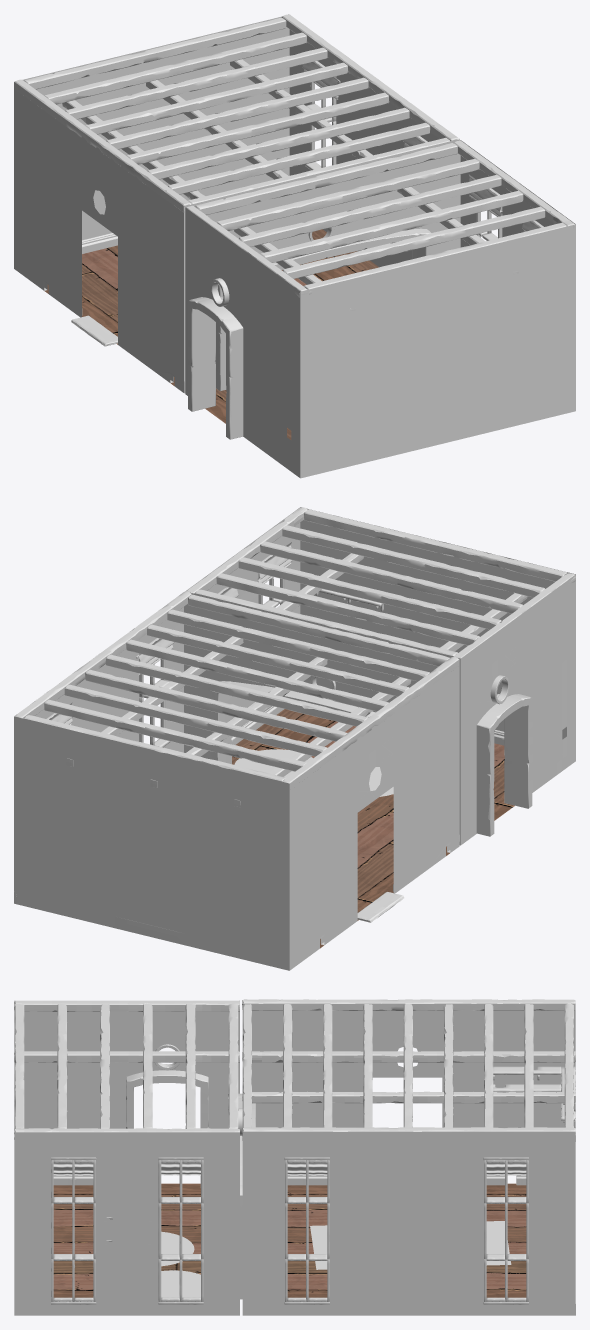
Rendered from LivingRoomTest.fbx.
3 views of the same model, one above another, from view 1: azimuth 30°, elevation 25°; view 2: azimuth 150°, elevation 25°; view 3: azimuth 270°, elevation 25° (orthographic). The views are drawn at different scales.
Parts seen in each view (by area): view 1: floor.001, CeilingWood.007, CeilingWood.012, Cube.395, CeilingWood.001, Cube.325, CeilingWood.015, CeilingWood.008, CeilingWood.010, CeilingWood.013, CeilingWood.009, Cube.078 (+3 smaller); view 2: floor.001, CeilingWood.007, CeilingWood.012, Cube.395, CeilingWood.001, Cube.325, CeilingWood.015, CeilingWood.013, CeilingWood.010, CeilingWood.009, CeilingWood.008, WallEdge.013 (+5 smaller); view 3: floor.001, CeilingWood.007, CeilingWood.012, CeilingWood.001, CeilingWood.009, CeilingWood.013, Shelf.002, Shelf.003, Shelf.013, Shelf.023, CeilingWood.008, CeilingWood.011 (+14 smaller).
Part boxes in pixels (left/top/right/bottom): floor.001: left=14, top=16, right=575, bottom=478; CeilingWood.007: left=24, top=17, right=450, bottom=204; CeilingWood.012: left=194, top=143, right=566, bottom=294; Cube.395: left=188, top=297, right=243, bottom=439; CeilingWood.001: left=14, top=14, right=458, bottom=212; Cube.325: left=215, top=228, right=432, bottom=391; CeilingWood.015: left=453, top=140, right=574, bottom=232; CeilingWood.008: left=186, top=205, right=307, bottom=297; CeilingWood.010: left=230, top=59, right=372, bottom=158; CeilingWood.013: left=146, top=80, right=287, bottom=179; CeilingWood.009: left=62, top=100, right=205, bottom=199; Cube.078: left=71, top=315, right=117, bottom=346; floor.001: left=14, top=507, right=575, bottom=970; CeilingWood.007: left=23, top=594, right=449, bottom=781; CeilingWood.012: left=195, top=509, right=567, bottom=656; Cube.395: left=476, top=693, right=532, bottom=836; CeilingWood.001: left=14, top=591, right=459, bottom=789; Cube.325: left=211, top=681, right=375, bottom=764; CeilingWood.015: left=186, top=507, right=307, bottom=593; CeilingWood.013: left=150, top=657, right=327, bottom=787; CeilingWood.010: left=66, top=636, right=243, bottom=766; CeilingWood.009: left=234, top=677, right=411, bottom=807; CeilingWood.008: left=453, top=573, right=575, bottom=658; WallEdge.013: left=114, top=916, right=184, bottom=943; floor.001: left=14, top=1000, right=575, bottom=1315; CeilingWood.007: left=242, top=1003, right=573, bottom=1127; CeilingWood.012: left=14, top=1003, right=238, bottom=1128; CeilingWood.001: left=242, top=999, right=575, bottom=1136; CeilingWood.009: left=242, top=1051, right=575, bottom=1062; CeilingWood.013: left=242, top=1091, right=575, bottom=1103; Shelf.002: left=158, top=1157, right=203, bottom=1304; Shelf.003: left=284, top=1157, right=329, bottom=1304; Shelf.013: left=51, top=1157, right=96, bottom=1304; Shelf.023: left=483, top=1157, right=528, bottom=1304; CeilingWood.008: left=14, top=1000, right=239, bottom=1011; CeilingWood.011: left=14, top=1051, right=239, bottom=1062.
Bounding box in the file's own units: 4424 × 2757 × 7588.
